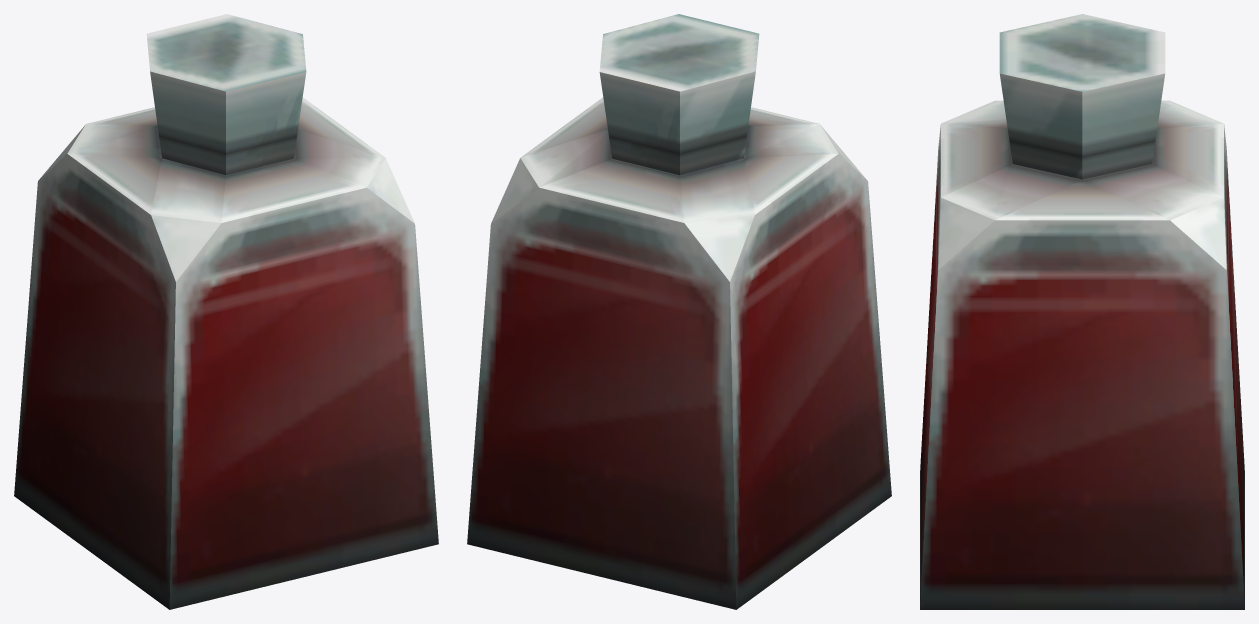
Rendered from potion.fbx.
3 views of the same model, side by side, from view 1: azimuth 30°, elevation 25°; view 2: azimuth 150°, elevation 25°; view 3: azimuth 270°, elevation 25° (orthographic). The views are drawn at different scales.
Visible parts, largest first — view 1: obj0; view 2: obj0; view 3: obj0.
Part boxes in pixels (x1=…): obj0: x1=14, y1=14, x2=438, y2=609; obj0: x1=467, y1=14, x2=891, y2=609; obj0: x1=920, y1=14, x2=1244, y2=609.
Bounding box in the file's own units: 0.3008 × 0.4988 × 0.3008.
